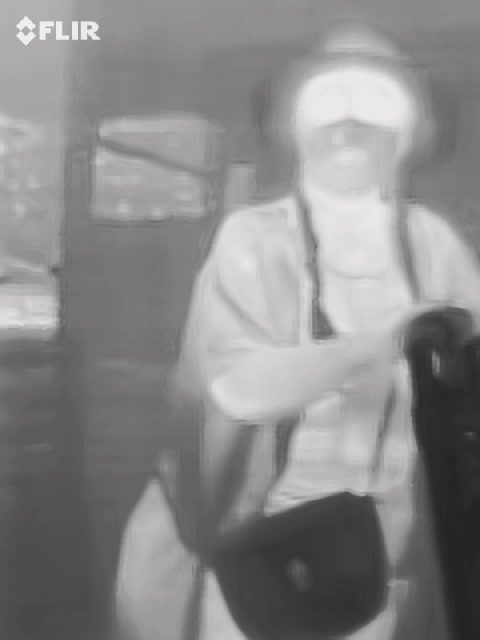head: (288, 59, 413, 196)
